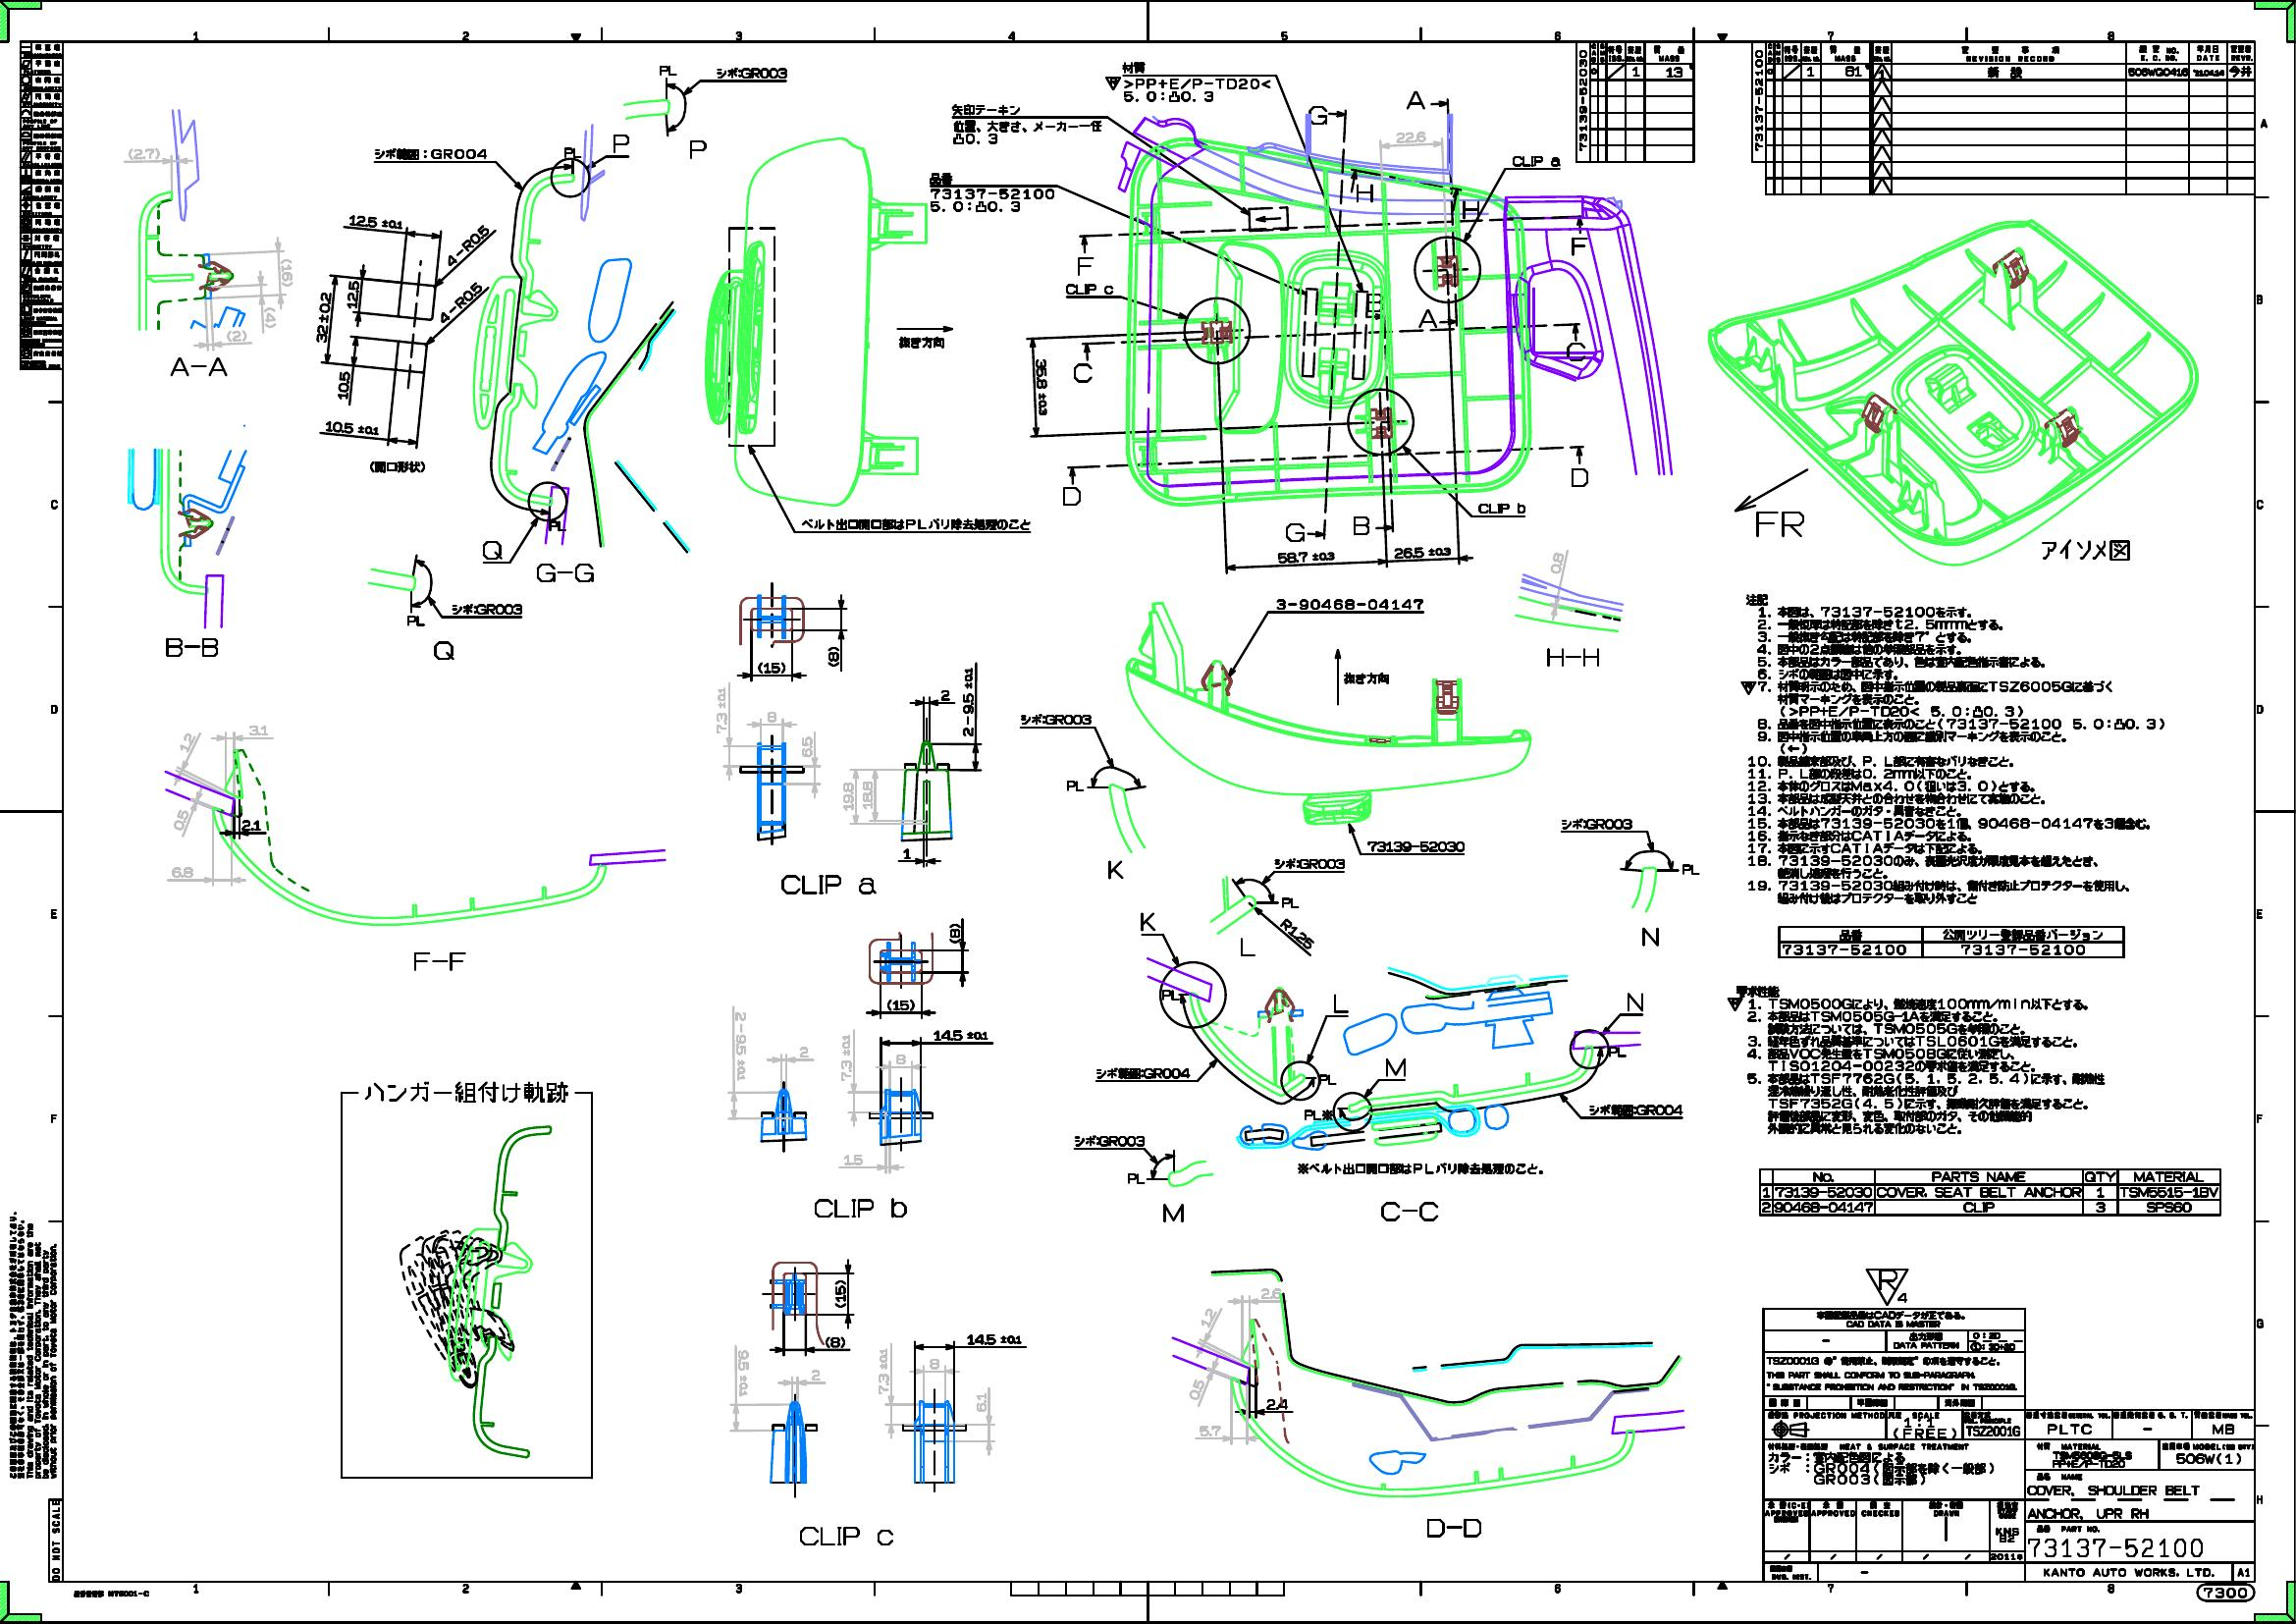anntotation_text: (1739, 592, 2164, 907), (1725, 984, 2105, 1137), (5, 1209, 60, 1478), (364, 1081, 569, 1104), (950, 104, 1103, 132), (1121, 62, 1272, 90), (1296, 1162, 1542, 1176), (929, 172, 1056, 199), (801, 517, 1031, 531), (813, 1197, 906, 1220), (780, 874, 877, 895), (2041, 540, 2131, 561), (1275, 598, 1423, 610), (799, 1526, 892, 1545), (1864, 1267, 1910, 1306), (1379, 1199, 1439, 1223), (374, 148, 487, 160), (1755, 510, 1804, 538), (1367, 840, 1465, 852), (1588, 1104, 1683, 1116), (2196, 1584, 2256, 1603), (1426, 1517, 1481, 1538), (1096, 1067, 1189, 1079), (170, 357, 228, 376), (536, 562, 594, 582), (413, 951, 466, 972), (1546, 647, 1600, 666), (165, 638, 218, 657), (1073, 1134, 1145, 1148), (1560, 817, 1632, 830), (715, 67, 787, 79), (451, 603, 522, 615), (72, 1587, 149, 1598), (1274, 858, 1346, 868), (1021, 714, 1091, 724), (369, 460, 425, 473), (1477, 501, 1527, 513), (1342, 671, 1390, 684), (898, 336, 945, 348), (1513, 155, 1560, 167), (1065, 283, 1114, 294), (1384, 1056, 1407, 1077), (1161, 1202, 1184, 1223), (1418, 308, 1439, 329), (432, 640, 455, 659), (1565, 341, 1585, 362), (1284, 522, 1305, 541), (481, 540, 502, 559), (1307, 105, 1326, 125), (1405, 90, 1425, 109), (1061, 487, 1080, 506), (1356, 183, 1374, 204), (1641, 926, 1658, 947), (689, 139, 706, 160), (1073, 364, 1093, 381), (1462, 200, 1479, 220), (1570, 468, 1588, 487), (1353, 515, 1370, 534), (1333, 993, 1349, 1014), (1140, 910, 1156, 932), (613, 134, 629, 153), (1077, 257, 1093, 276), (1570, 237, 1586, 257), (1107, 859, 1123, 879), (1240, 937, 1256, 956), (1627, 991, 1643, 1011), (1367, 292, 1381, 313), (1126, 1171, 1145, 1185), (1105, 74, 1121, 90), (659, 63, 678, 76), (1681, 863, 1699, 875), (564, 146, 581, 158), (1281, 896, 1298, 909), (1319, 1074, 1337, 1086), (1609, 1046, 1627, 1058), (406, 615, 425, 626), (1161, 990, 1180, 1000), (548, 520, 566, 531), (1066, 780, 1084, 791), (1303, 1109, 1321, 1120)
dimension_text: (929, 200, 1021, 213), (1123, 90, 1214, 102), (734, 1011, 747, 1083), (316, 290, 330, 344), (963, 666, 973, 736), (1277, 550, 1335, 562), (1393, 547, 1451, 559), (453, 274, 466, 330), (460, 216, 473, 272), (348, 216, 404, 228), (933, 1028, 989, 1040), (1036, 359, 1049, 415), (325, 422, 379, 434), (966, 1334, 1022, 1345), (715, 685, 727, 733), (840, 1033, 852, 1081), (1277, 926, 1318, 940), (952, 132, 998, 144), (738, 1350, 750, 1396), (878, 1346, 889, 1394), (346, 279, 360, 308), (1395, 130, 1425, 142), (337, 371, 350, 399), (841, 782, 854, 810), (1549, 552, 1563, 573), (863, 780, 873, 808), (801, 735, 813, 758), (1189, 1378, 1202, 1401), (174, 808, 186, 831), (134, 148, 155, 160), (1260, 1287, 1281, 1299), (248, 724, 269, 736), (181, 731, 193, 752), (1198, 1425, 1221, 1436), (1265, 1399, 1288, 1410), (170, 866, 193, 877), (975, 1392, 987, 1411), (241, 819, 260, 831), (281, 264, 293, 281), (845, 1153, 863, 1165), (1203, 1308, 1214, 1327), (892, 998, 908, 1011), (762, 663, 780, 673), (834, 1285, 845, 1302), (827, 650, 840, 663), (766, 710, 776, 722), (940, 689, 950, 701), (949, 928, 959, 939), (829, 1336, 840, 1346), (929, 1359, 940, 1369), (264, 313, 276, 322), (903, 847, 912, 859), (799, 1046, 808, 1058), (896, 1053, 905, 1065), (232, 330, 241, 341), (812, 1369, 820, 1380)
object: (1117, 114, 1676, 508), (1706, 216, 2201, 568), (1170, 1267, 1685, 1497), (1145, 956, 1643, 1151), (473, 123, 689, 554), (1124, 599, 1532, 826), (163, 749, 666, 926), (703, 135, 929, 508), (399, 1123, 553, 1459), (137, 107, 246, 330), (126, 446, 248, 629), (738, 582, 847, 682), (761, 1260, 856, 1355), (393, 225, 432, 448), (738, 733, 805, 845), (899, 717, 952, 858), (1514, 571, 1625, 633), (901, 1387, 966, 1483), (769, 1394, 817, 1497), (868, 1076, 933, 1151), (1087, 782, 1147, 854), (1209, 875, 1279, 935), (868, 932, 933, 990), (761, 1081, 808, 1153), (365, 554, 416, 613), (622, 77, 669, 137), (1618, 866, 1679, 912), (1145, 1149, 1214, 1188)
title_block: (1762, 1308, 2256, 1580), (1751, 40, 2256, 195), (1758, 1169, 2220, 1214), (1574, 40, 1695, 162), (19, 39, 63, 371), (1778, 926, 2124, 958)
